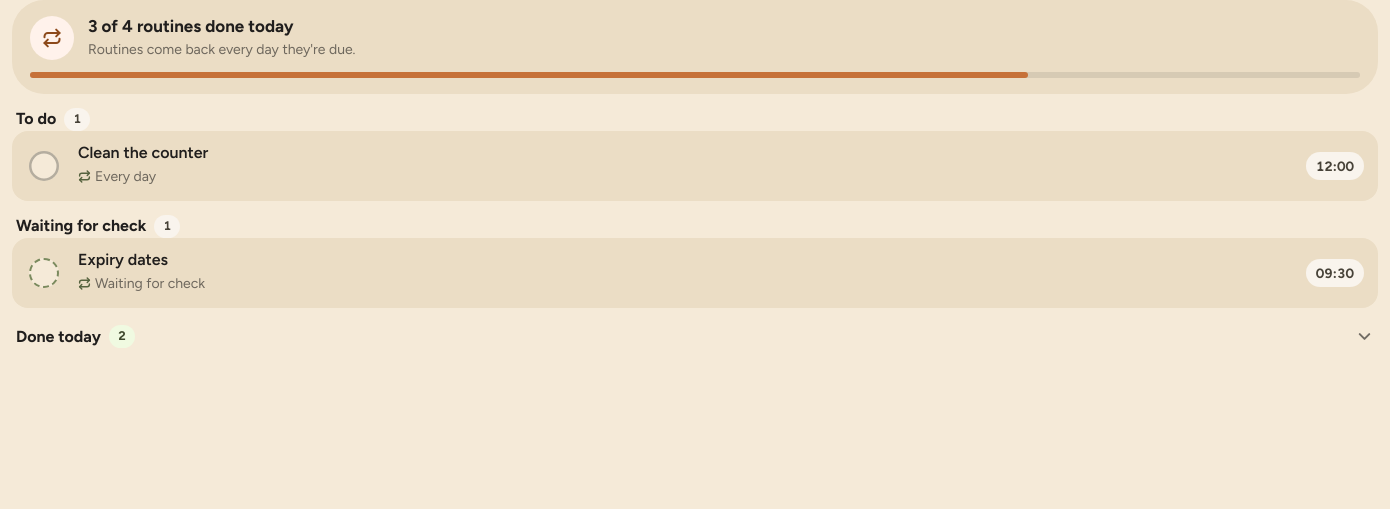
Test: the Routines tab › shows today's progress and keeps finished runs folded under Done today
The width and height of the screenshot is (1390, 509).
Expected: the text "3 of 4 routines done today" is shown, 88,16 -> 294,36
Expected: the text "Routines come back every day they're due." is shown, 88,41 -> 356,58
Click the button "Done today 2". click: (58, 336)
box: 12,308 -> 1378,352
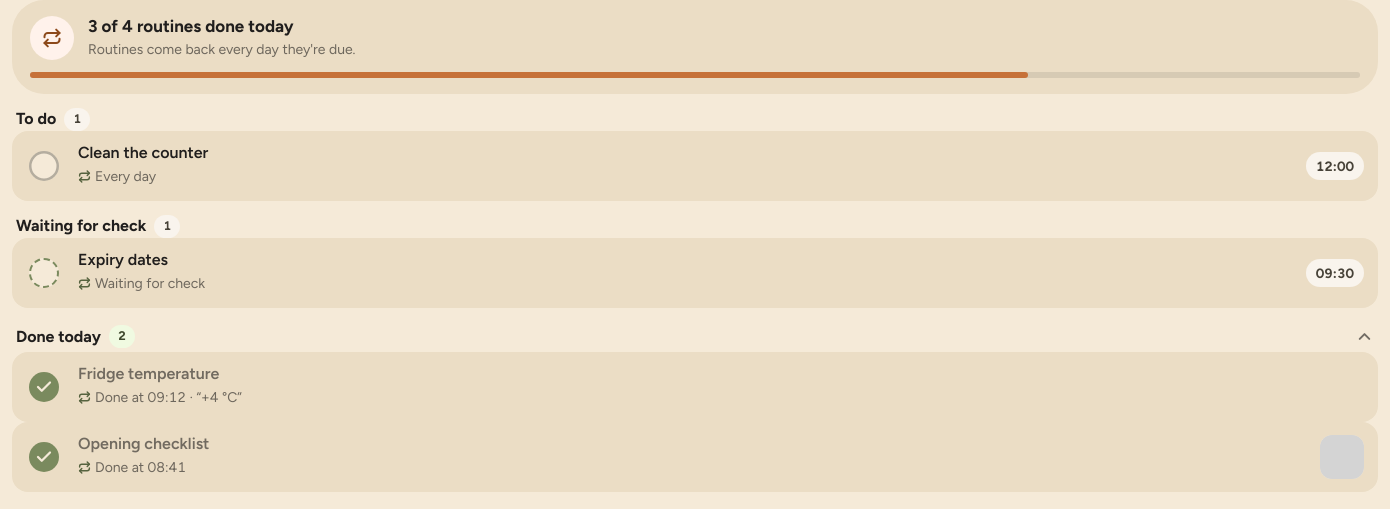
Expected: the button "Done today 2" is expanded, 12,308 -> 1378,352
Expected: the text "Done at 09:12 · “+4 °C”" is shown, 95,387 -> 242,408
Expected: the text "Opening checklist" is shown, 78,434 -> 209,453
